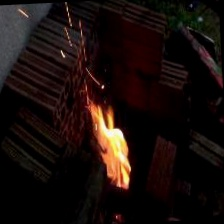fire: (61, 7, 142, 195)
